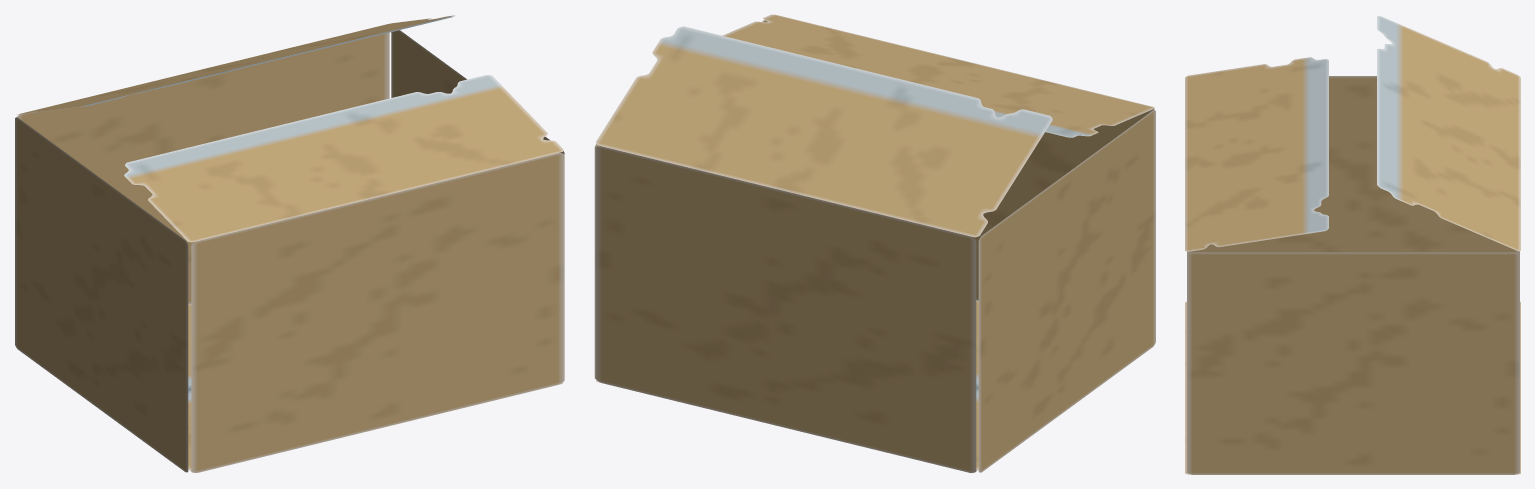
Rendered from xiangzi1.fbx.
The picture shows the model from 3 angles, left to right: view 1: azimuth 30°, elevation 25°; view 2: azimuth 150°, elevation 25°; view 3: azimuth 270°, elevation 25°; orthographic projection. The views are drawn at different scales.
Parts seen in each view (by area): view 1: 平面.005; view 2: 平面.005; view 3: 平面.005.
Part boxes in pixels (x1,y1,x2,y2): 平面.005: (15,15,564,472); 平面.005: (594,14,1155,473); 平面.005: (1185,16,1520,474).
Size of the model in its own units: 107 by 80.88 by 86.45.
